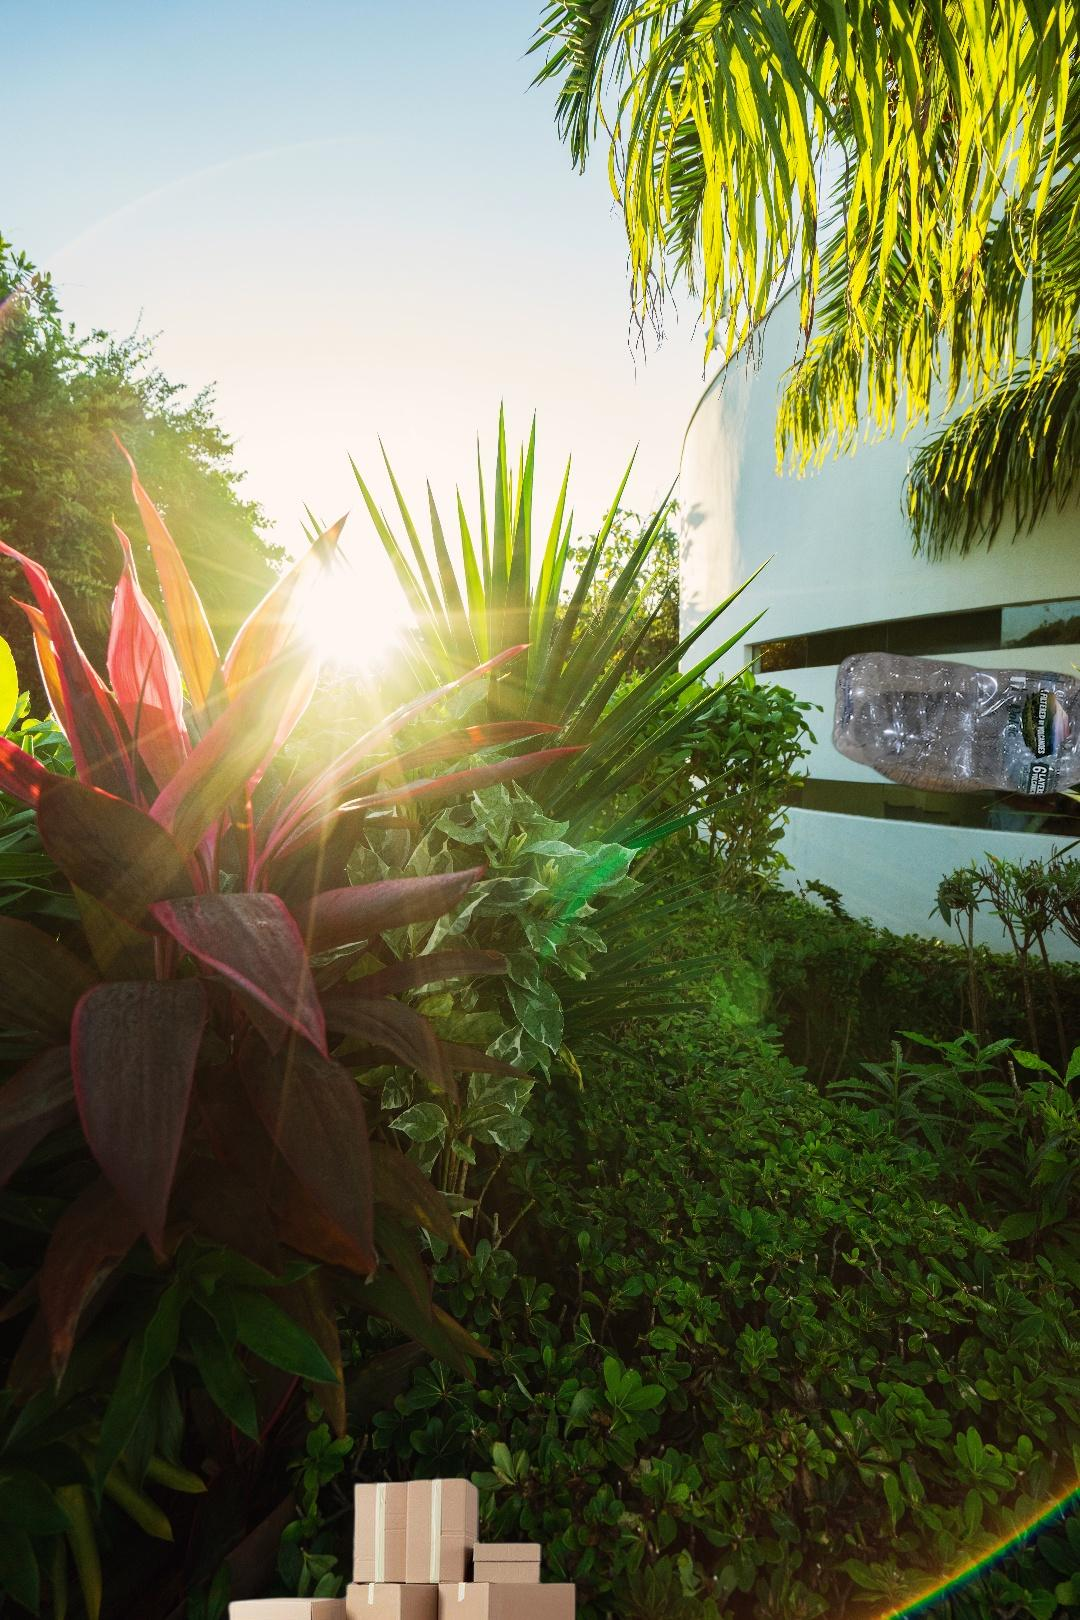plastic-bottles: (773, 648, 1080, 993)
trashbox-cardboard: (175, 1463, 583, 1620)
